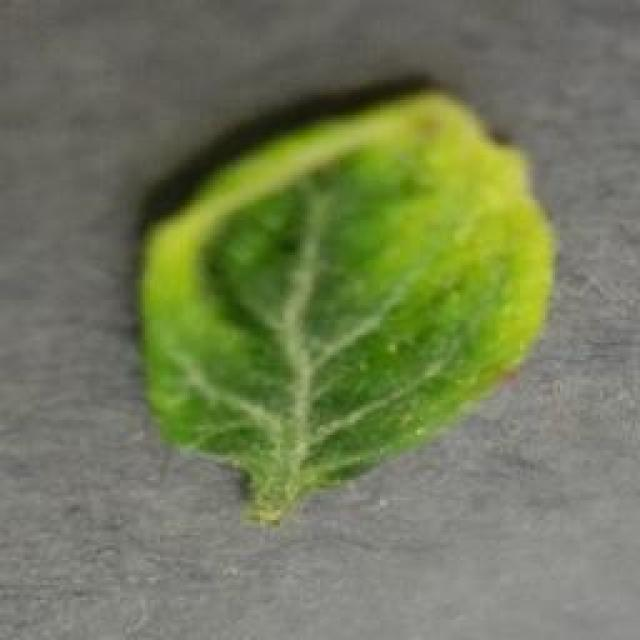Tom_Yellow_Leaf_Curl_Virus: (155, 95, 529, 471)
